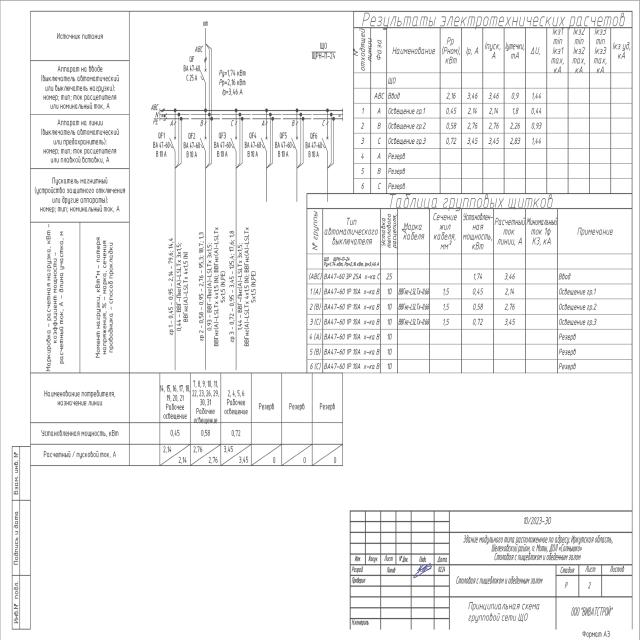-: (182, 64, 200, 82), (152, 140, 170, 158), (305, 141, 323, 159), (244, 140, 262, 158), (214, 140, 231, 159), (275, 140, 292, 158), (310, 50, 336, 61), (183, 142, 200, 158)
QF: (290, 120, 300, 153), (169, 120, 177, 154), (260, 121, 268, 154), (200, 120, 207, 154), (230, 120, 237, 154), (322, 121, 329, 154), (200, 57, 208, 84)
